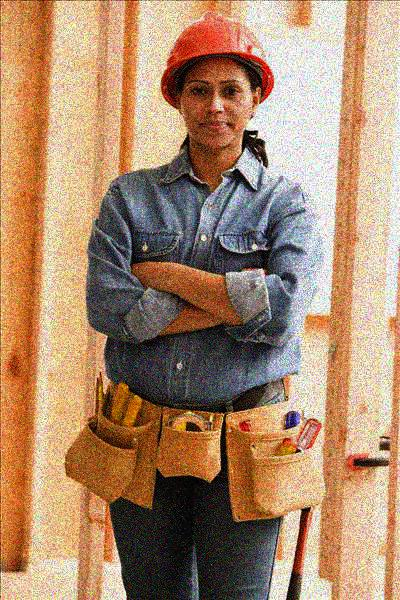helmet: (158, 14, 275, 156)
